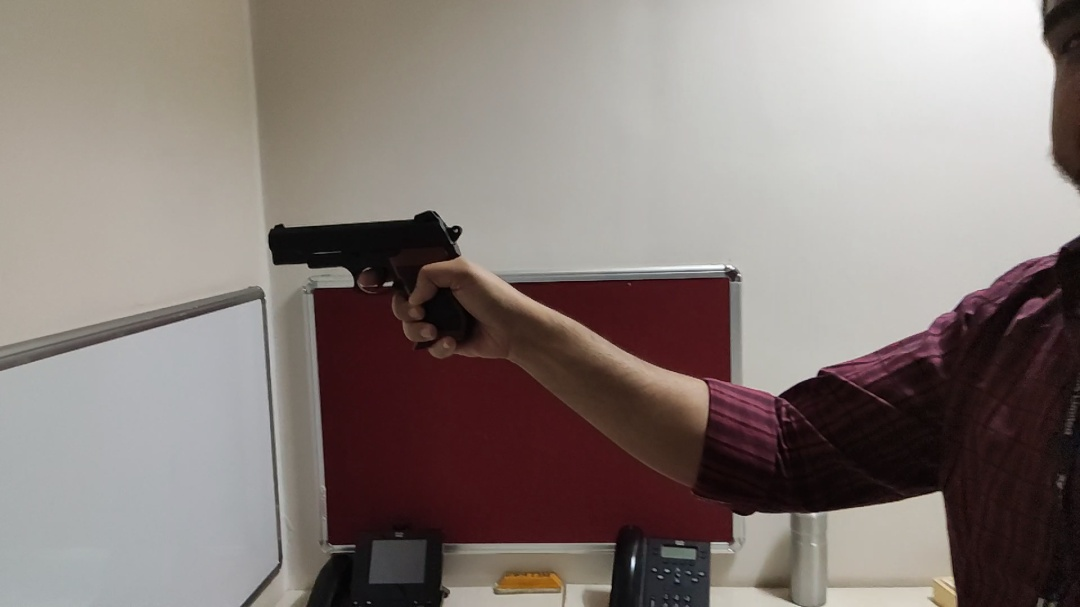gun: (269, 209, 484, 353)
